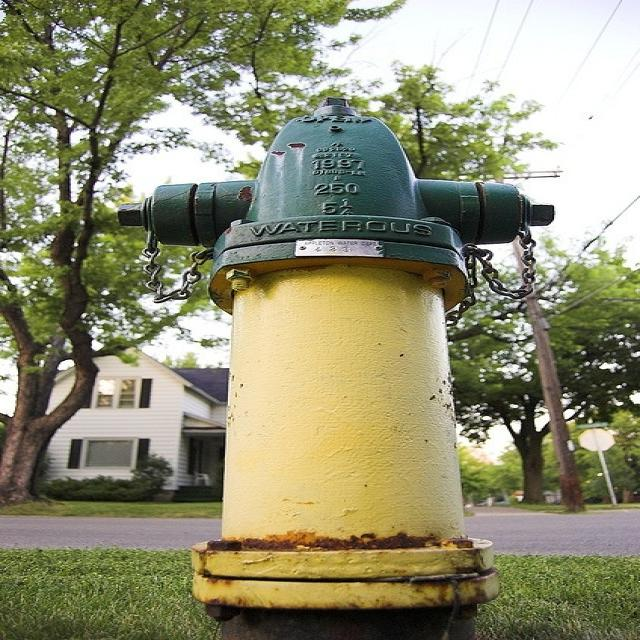fire_hydrant: (162, 86, 630, 637)
